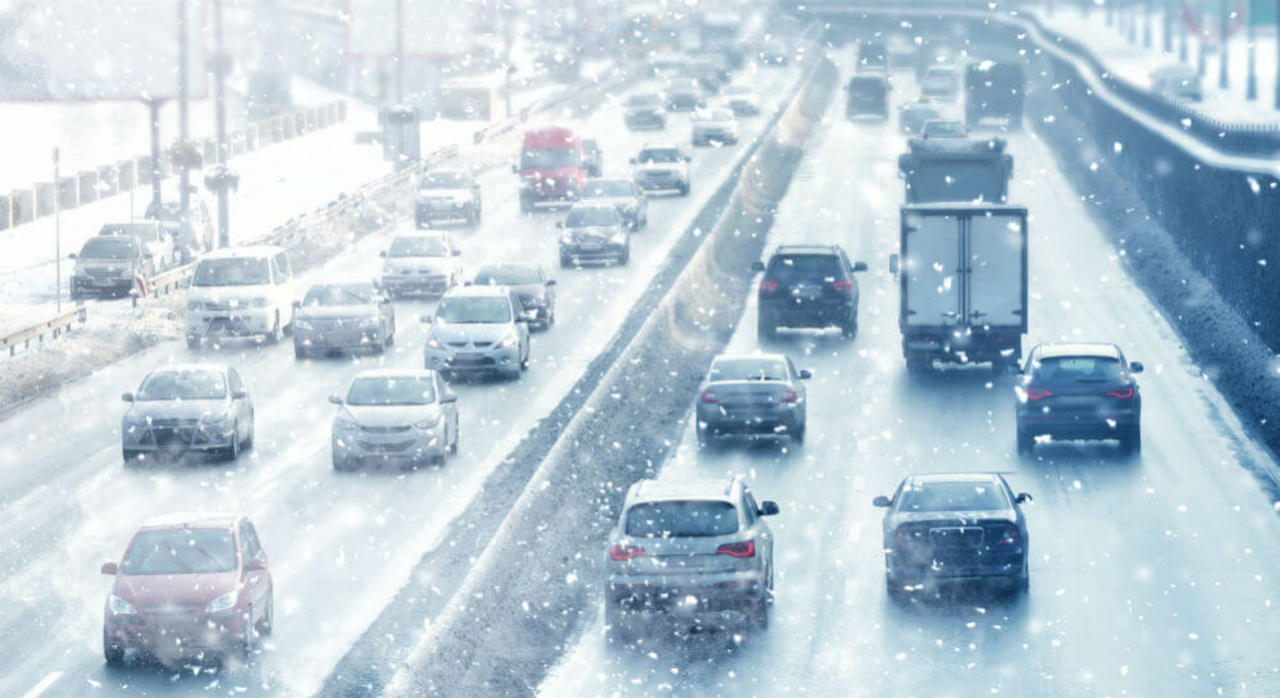car: (98, 513, 275, 675), (610, 482, 778, 650), (877, 471, 1034, 611), (1011, 341, 1142, 461), (117, 362, 257, 468), (329, 367, 458, 473), (178, 245, 296, 346), (427, 284, 530, 381), (698, 358, 806, 442), (291, 277, 390, 365), (763, 246, 857, 336), (469, 262, 558, 333), (379, 232, 465, 299), (513, 131, 587, 200), (554, 205, 633, 268), (411, 169, 483, 237), (71, 234, 141, 298), (575, 177, 649, 228), (629, 146, 692, 197), (112, 217, 172, 265), (151, 198, 210, 245), (1148, 59, 1204, 101), (692, 105, 737, 143), (846, 80, 889, 116), (623, 90, 666, 125), (919, 64, 961, 98), (922, 114, 968, 140), (755, 35, 790, 66), (898, 98, 938, 125), (580, 136, 605, 179), (718, 85, 758, 111), (665, 82, 699, 106)
truck: (896, 198, 1030, 375), (900, 144, 1015, 201), (963, 57, 1026, 130), (702, 17, 746, 64)
